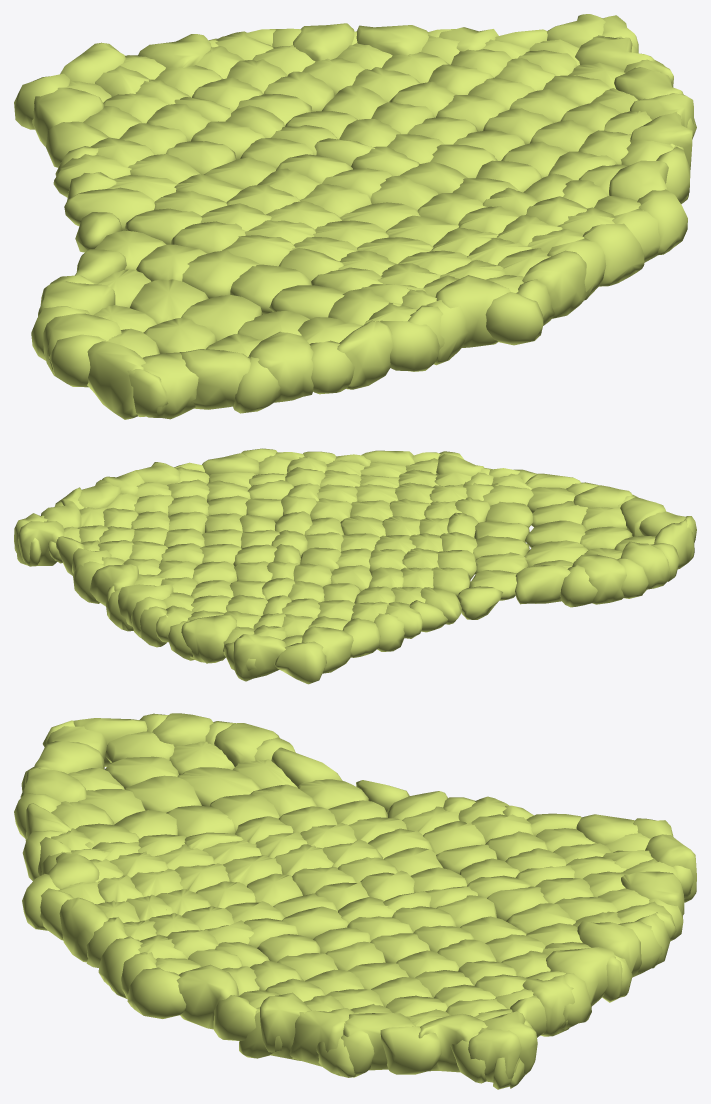
Rendered from Islands5.005_fog.fbx.
The picture shows the model from 3 angles, top to bottom: view 1: azimuth 30°, elevation 25°; view 2: azimuth 150°, elevation 25°; view 3: azimuth 270°, elevation 25°; orthographic projection. The views are drawn at different scales.
Visible parts, largest first — view 1: Island5.005_fog_cell.020, Island5.005_fog_cell.124, Island5.005_fog_cell.049, Island5.005_fog_cell.022, Island5.005_fog_cell.024, Island5.005_fog_cell.030, Island5.005_fog_cell.140, Island5.005_fog_cell.134, Island5.005_fog_cell.104, Island5.005_fog_cell.105, Island5.005_fog_cell.148, Island5.005_fog_cell.162 (+150 smaller); view 2: Island5.005_fog_cell.050, Island5.005_fog_cell.032, Island5.005_fog_cell.166, Island5.005_fog_cell.071, Island5.005_fog_cell.114, Island5.005_fog_cell.105, Island5.005_fog_cell.137, Island5.005_fog_cell.107, Island5.005_fog_cell.182, Island5.005_fog_cell.129, Island5.005_fog_cell.077, Island5.005_fog_cell.018 (+131 smaller); view 3: Island5.005_fog_cell.060, Island5.005_fog_cell.180, Island5.005_fog_cell.156, Island5.005_fog_cell.116, Island5.005_fog_cell.182, Island5.005_fog_cell.130, Island5.005_fog_cell.024, Island5.005_fog_cell.040, Island5.005_fog_cell, Island5.005_fog_cell.129, Island5.005_fog_cell.170, Island5.005_fog_cell.012 (+143 smaller).
Boxes of the visible parts, x1,y1,x2,y2 form: Island5.005_fog_cell.020: (87, 341, 145, 419); Island5.005_fog_cell.124: (249, 331, 313, 402); Island5.005_fog_cell.049: (179, 349, 250, 409); Island5.005_fog_cell.022: (435, 275, 510, 347); Island5.005_fog_cell.024: (522, 250, 587, 318); Island5.005_fog_cell.030: (337, 320, 393, 389); Island5.005_fog_cell.140: (485, 292, 543, 345); Island5.005_fog_cell.134: (127, 352, 198, 419); Island5.005_fog_cell.104: (582, 223, 644, 286); Island5.005_fog_cell.105: (32, 87, 103, 146); Island5.005_fog_cell.148: (64, 187, 154, 231); Island5.005_fog_cell.162: (182, 250, 259, 298); Island5.005_fog_cell.050: (181, 614, 236, 663); Island5.005_fog_cell.032: (233, 634, 286, 681); Island5.005_fog_cell.166: (515, 565, 570, 604); Island5.005_fog_cell.071: (572, 554, 626, 604); Island5.005_fog_cell.114: (274, 641, 326, 684); Island5.005_fog_cell.105: (301, 626, 353, 673); Island5.005_fog_cell.137: (18, 521, 64, 566); Island5.005_fog_cell.107: (621, 541, 670, 589); Island5.005_fog_cell.182: (89, 564, 138, 606); Island5.005_fog_cell.129: (525, 520, 586, 547); Island5.005_fog_cell.077: (457, 586, 502, 619); Island5.005_fog_cell.018: (560, 564, 597, 607); Island5.005_fog_cell.060: (176, 964, 238, 1029); Island5.005_fog_cell.180: (380, 1026, 441, 1074); Island5.005_fog_cell.156: (127, 967, 186, 1018); Island5.005_fog_cell.116: (289, 1008, 354, 1066); Island5.005_fog_cell.182: (546, 947, 615, 1006); Island5.005_fog_cell.130: (260, 992, 311, 1060); Island5.005_fog_cell.024: (59, 897, 108, 962); Island5.005_fog_cell.040: (177, 767, 261, 806); Island5.005_fog_cell: (577, 921, 641, 977); Island5.005_fog_cell.129: (125, 775, 201, 812); Island5.005_fog_cell.170: (468, 1028, 521, 1082); Island5.005_fog_cell.012: (418, 1013, 487, 1072).
Size of the model in its own units: 145 by 11.72 by 125.
